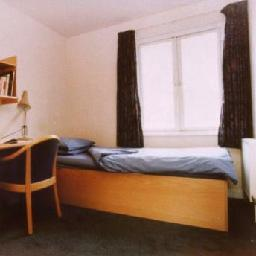Cama: (68, 141, 236, 239)
Ventana: (130, 25, 230, 136)
